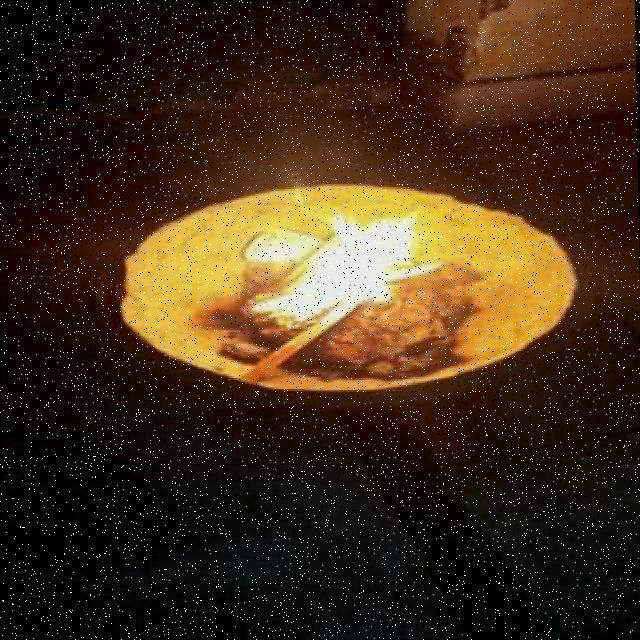Fire: (246, 204, 422, 331)
